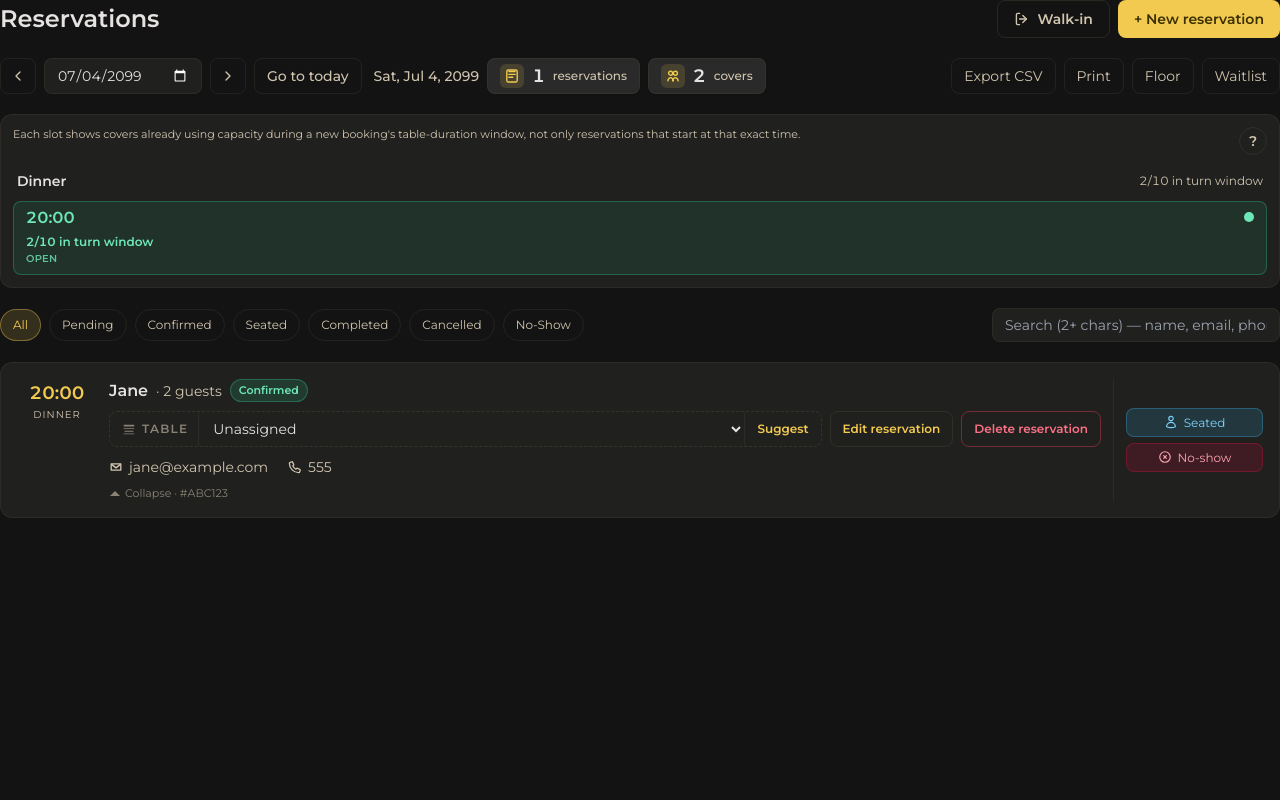
it: ReservationsPage floor opening › opens the floor modal from the date-row reservations metric
Expected: the number of buttons named "open floor view for covers" is 1, [648,58,766,94]
Click the button with aria-label "open floor view for reservations" at (564, 76), box [487,58,640,94]
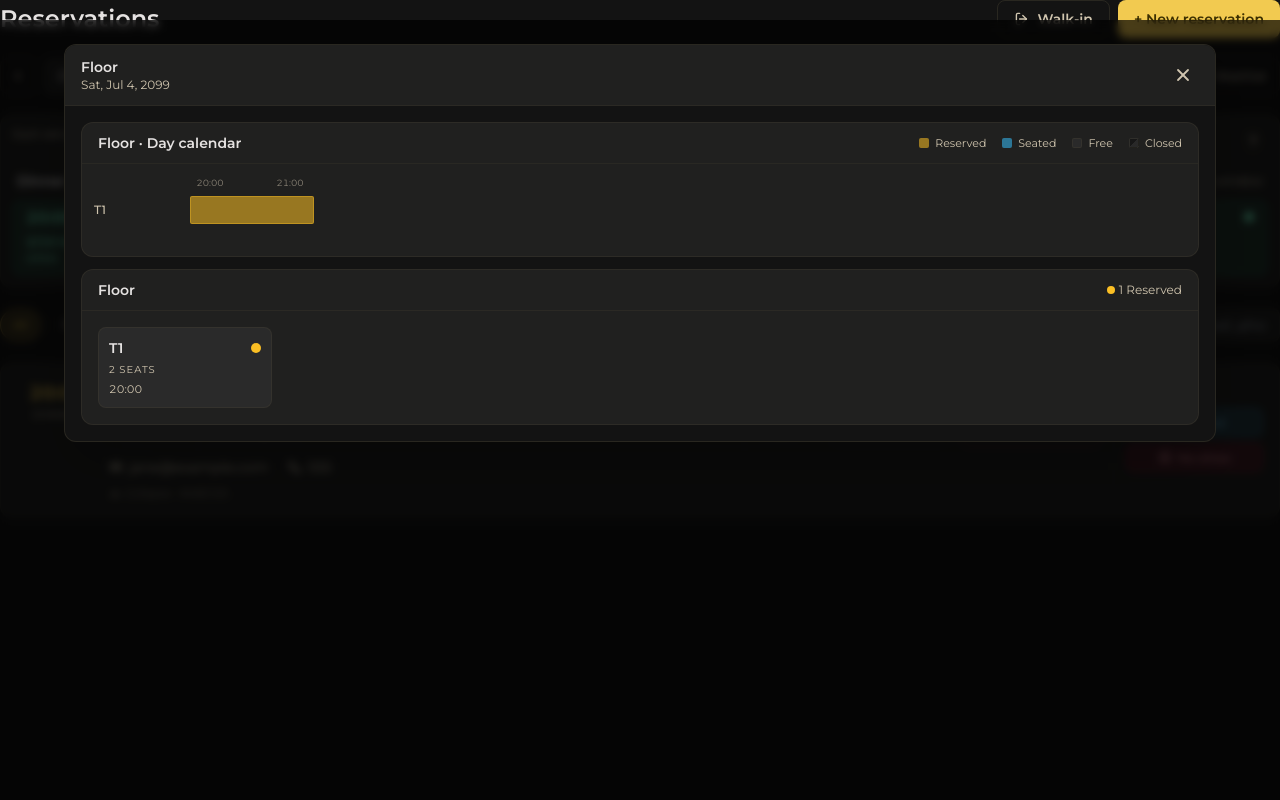
Now the dialog "Floor" is shown
Now the element titled "20:00 · Jane (2)" is shown, box [98,326,272,408]
